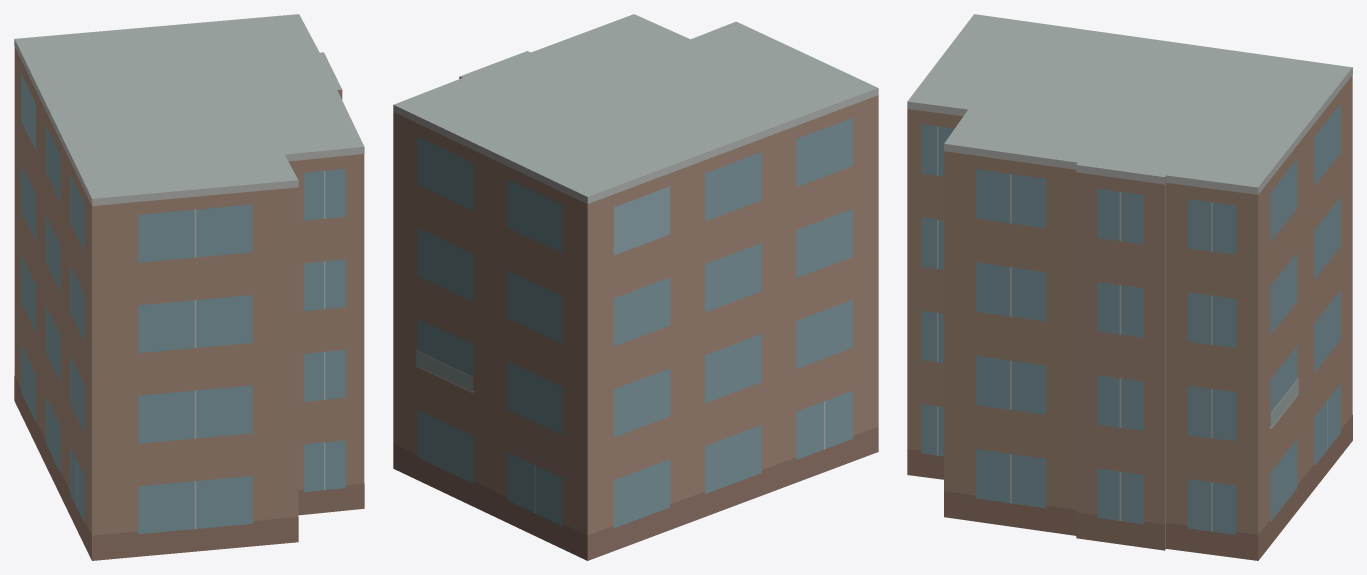
The model's file is survey-upis-32805109.glb.
3 renders of one model, left to right at view 1: azimuth 30°, elevation 25°; view 2: azimuth 150°, elevation 25°; view 3: azimuth 270°, elevation 25°, orthographic. The views are drawn at different scales.
Visible parts, largest first — view 1: survey-upis-32805109.tmp; view 2: survey-upis-32805109.tmp; view 3: survey-upis-32805109.tmp.
Boxes of the visible parts, box(x1,y1,x2,y2) form: survey-upis-32805109.tmp: box(14, 14, 364, 560); survey-upis-32805109.tmp: box(393, 14, 878, 560); survey-upis-32805109.tmp: box(907, 14, 1352, 560).
Bounding box in the file's own units: 12.37 × 12.4 × 13.42.
